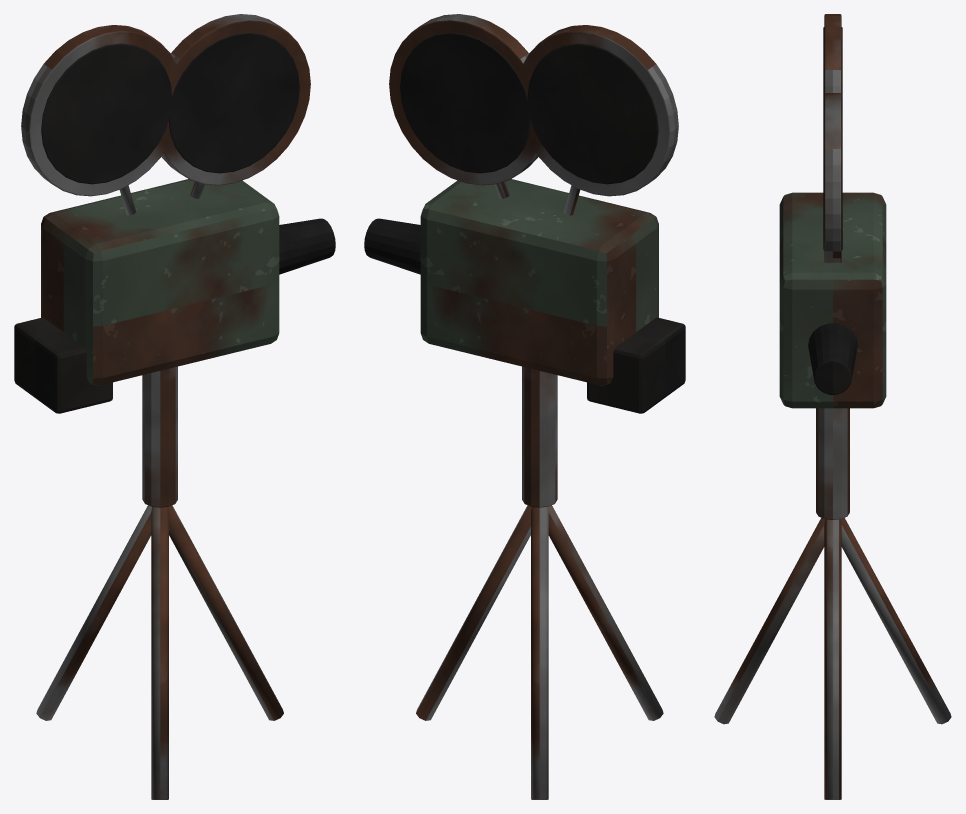
The model's file is Q03_film_projector.glb.
The picture shows the model from 3 angles, left to right: view 1: azimuth 30°, elevation 25°; view 2: azimuth 150°, elevation 25°; view 3: azimuth 270°, elevation 25°; orthographic projection. The views are drawn at different scales.
Parts seen in each view (by area): view 1: Q03_film_projector; view 2: Q03_film_projector; view 3: Q03_film_projector.
Boxes of the visible parts, x1,y1,x2,y2 form: Q03_film_projector: [14, 14, 335, 799]; Q03_film_projector: [364, 14, 685, 799]; Q03_film_projector: [714, 14, 951, 799].
Size of the model in its own units: 0.345 by 0.8 by 0.2457.
4 materials, 4 textured.
